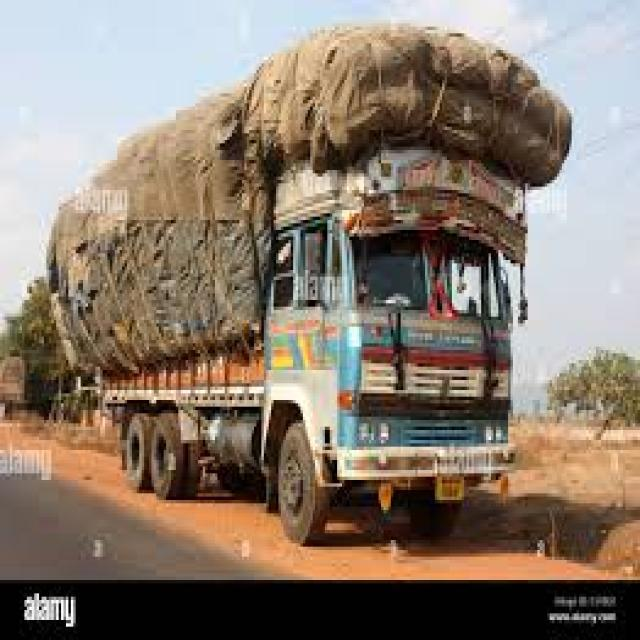covered: (44, 18, 572, 548)
